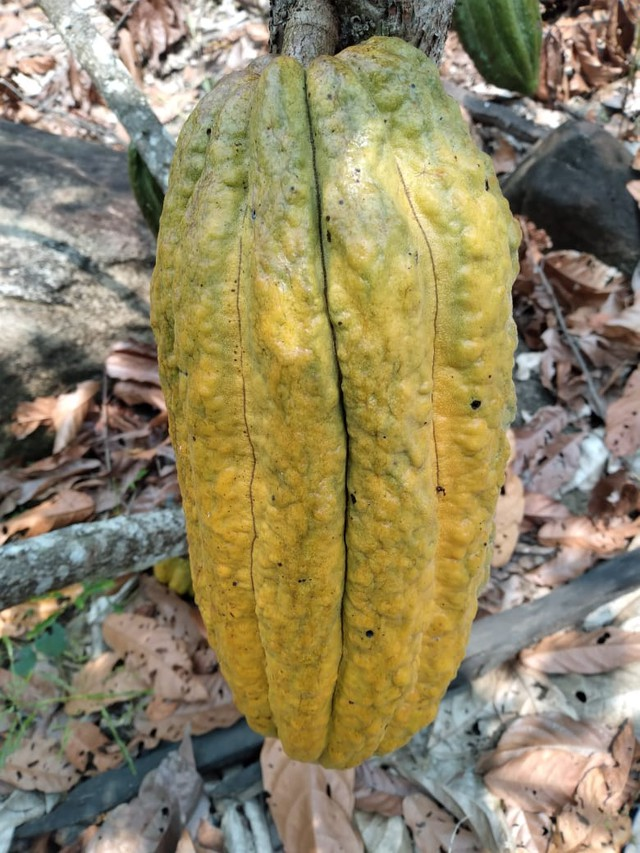Health: (142, 28, 524, 778)
